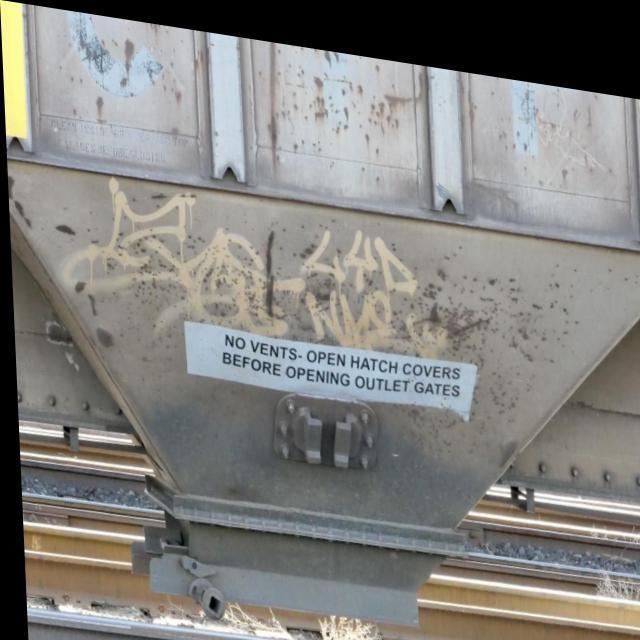-: (37, 164, 461, 398)
